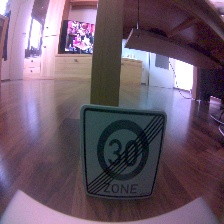dreisiger_zone_ende: (78, 104, 166, 200)
